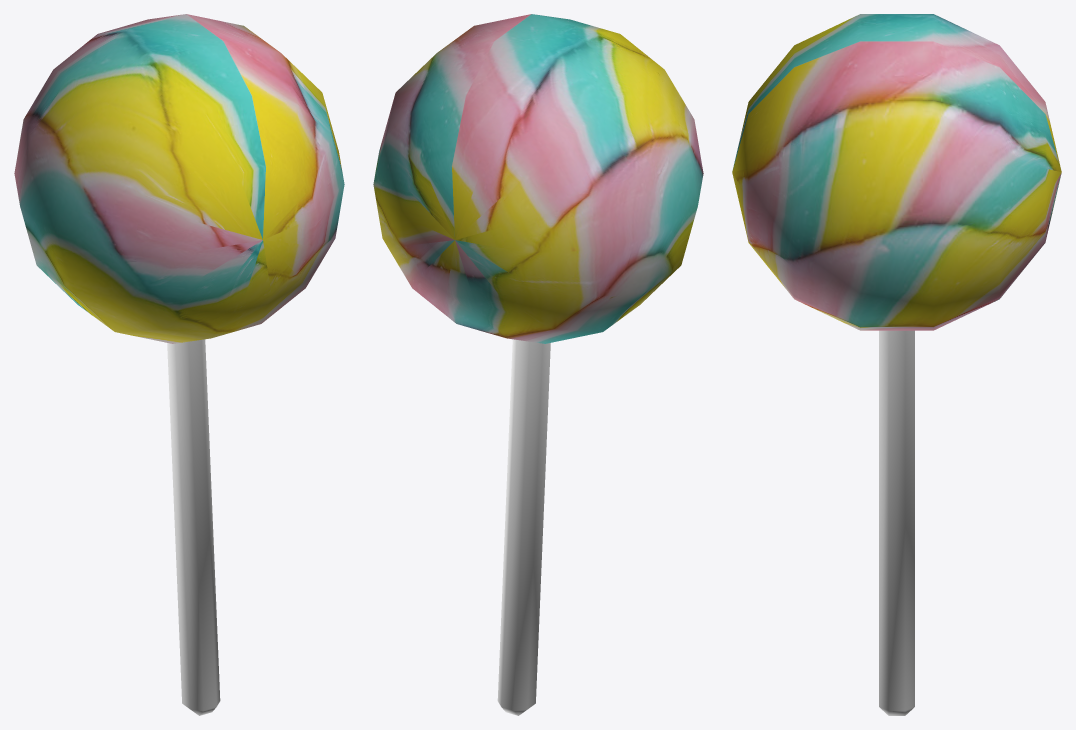
Rendered from CANDIES03.FBX.
3 renders of one model, left to right at view 1: azimuth 30°, elevation 25°; view 2: azimuth 150°, elevation 25°; view 3: azimuth 270°, elevation 25°, orthographic.
Visible parts, largest first — view 1: Sphere002; view 2: Sphere002; view 3: Sphere002.
Part boxes in pixels (<box>): Sphere002: <box>14,14,344,715</box>; Sphere002: <box>373,14,703,715</box>; Sphere002: <box>732,14,1061,715</box>.
Bounding box in the file's own units: 490 × 1134 × 503.
2 materials, 1 textured.
